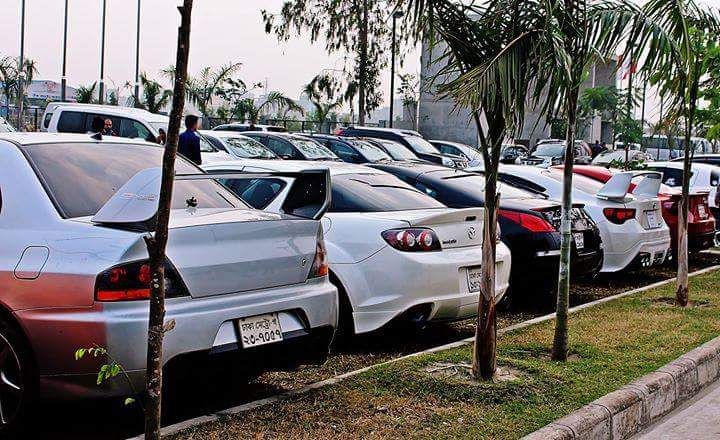registration_plate: (238, 313, 282, 348)
